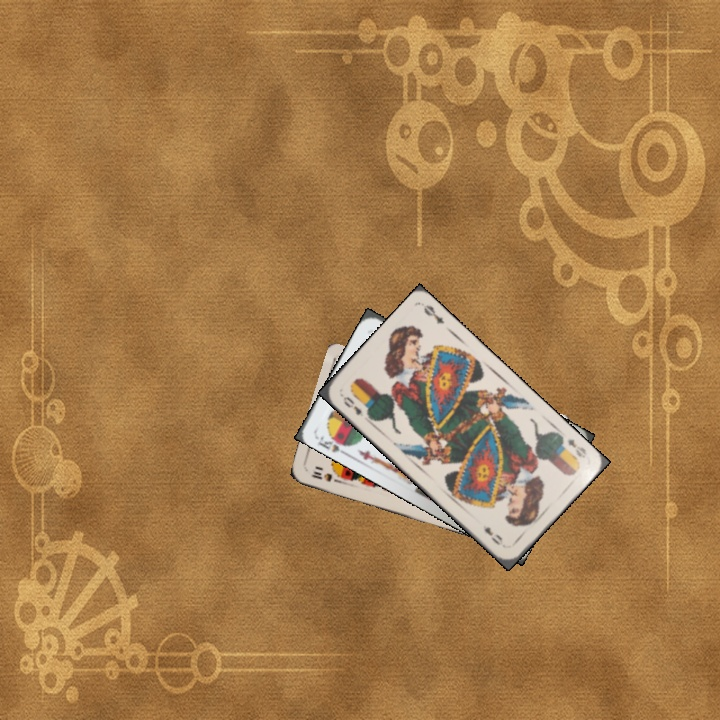EO: (339, 392, 371, 420), (563, 435, 589, 461)
S10: (307, 467, 342, 485)
SK: (314, 429, 353, 458)
